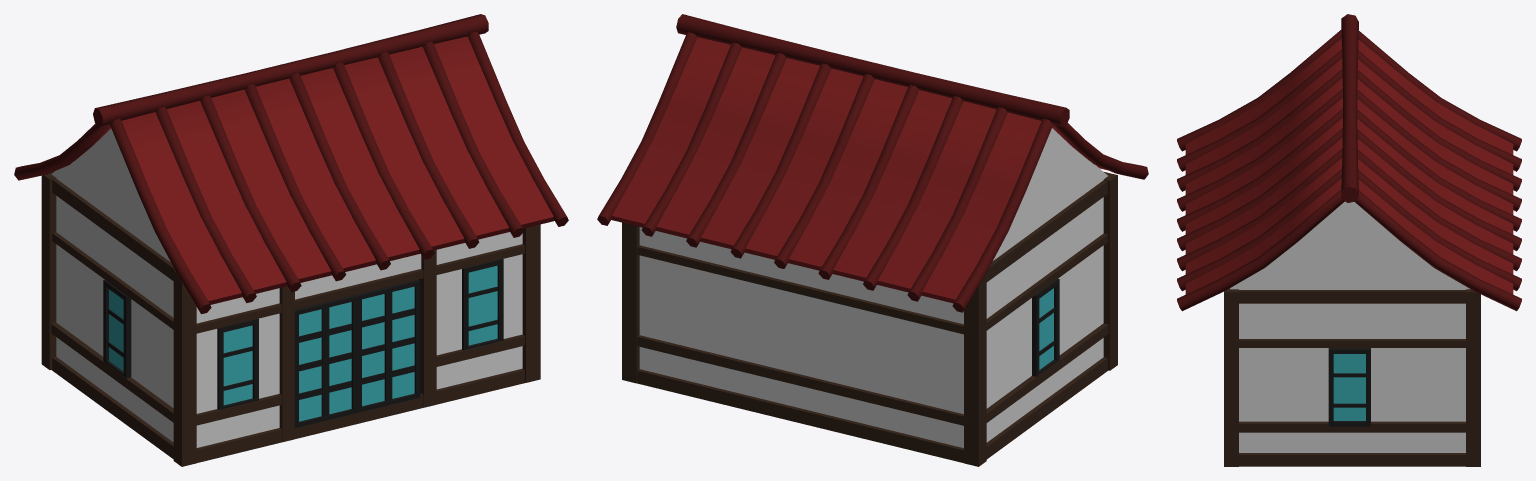
Rendered from SM_house_japan_01.fbx.
3 views of the same model, side by side, from view 1: azimuth 30°, elevation 25°; view 2: azimuth 150°, elevation 25°; view 3: azimuth 270°, elevation 25° (orthographic). The views are drawn at different scales.
Parts seen in each view (by area): view 1: Object017; view 2: Object017; view 3: Object017.
Part boxes in pixels (x1,y1,x2,y2): Object017: (14,14,568,466); Object017: (597,14,1148,466); Object017: (1177,14,1521,466).
Size of the model in its own units: 244 by 189 by 206.
